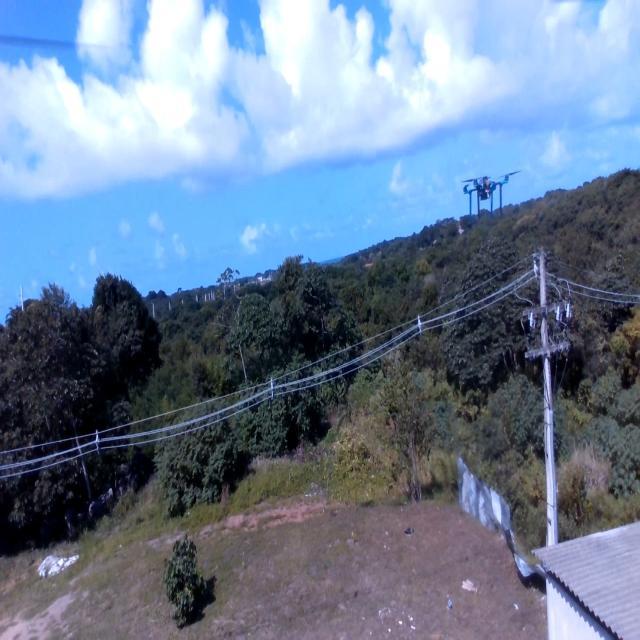-uav-: (452, 160, 525, 222)
